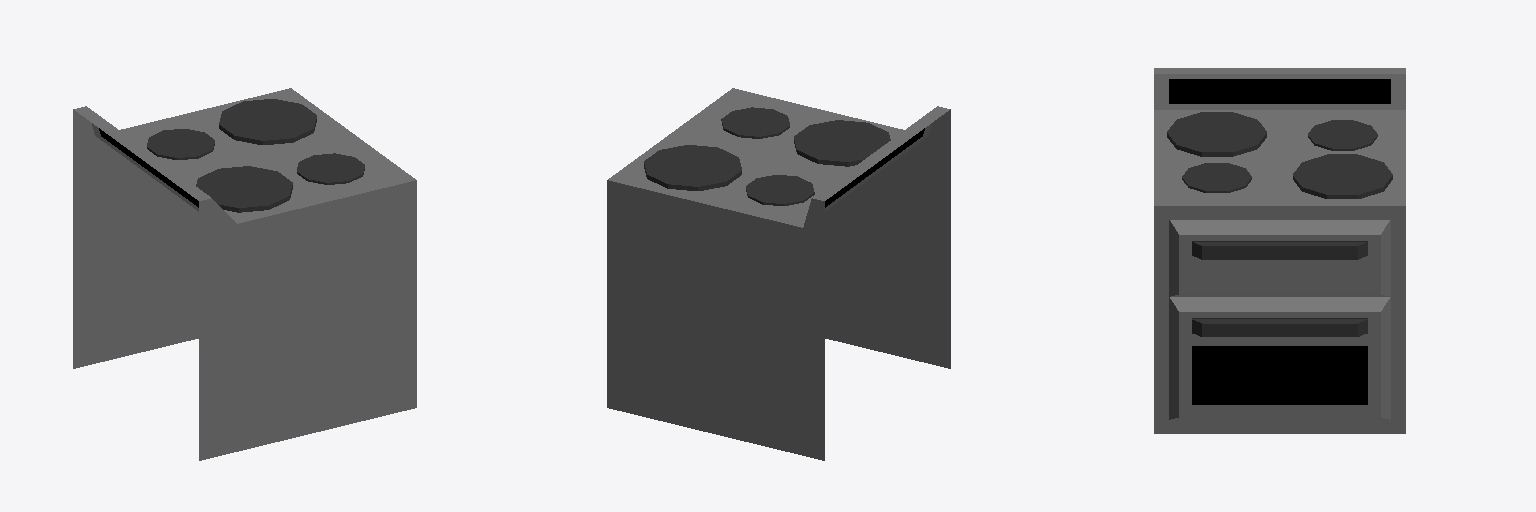
3 views of the same model, side by side, from view 1: azimuth 30°, elevation 25°; view 2: azimuth 150°, elevation 25°; view 3: azimuth 270°, elevation 25° (orthographic).
Visible parts, largest first — view 1: Cylinder; view 2: Cylinder; view 3: Cylinder.
Boxes of the visible parts, box(x1,y1,x2,y2) form: Cylinder: box(73, 88, 416, 460); Cylinder: box(607, 88, 950, 460); Cylinder: box(1154, 68, 1405, 433).
Size of the model in its own units: 2.75 by 2.85 by 2.5.
1 materials, 1 textured.